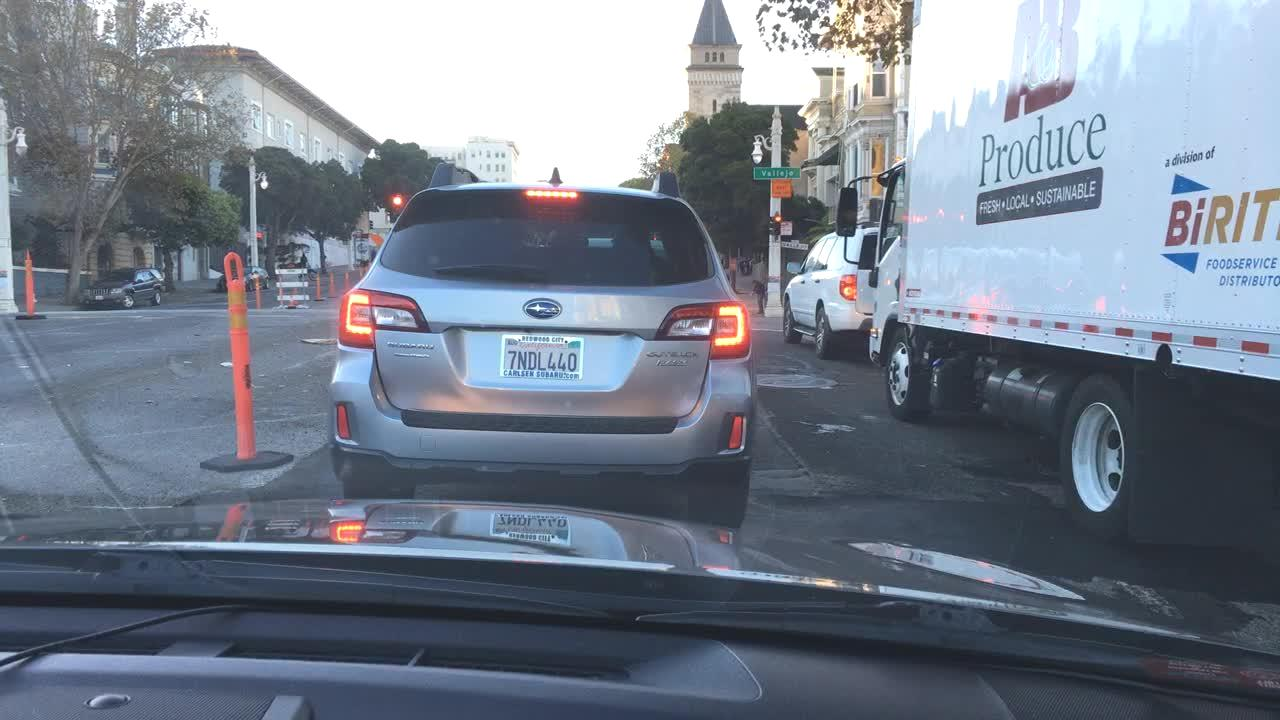subaru: (521, 299, 565, 319)
